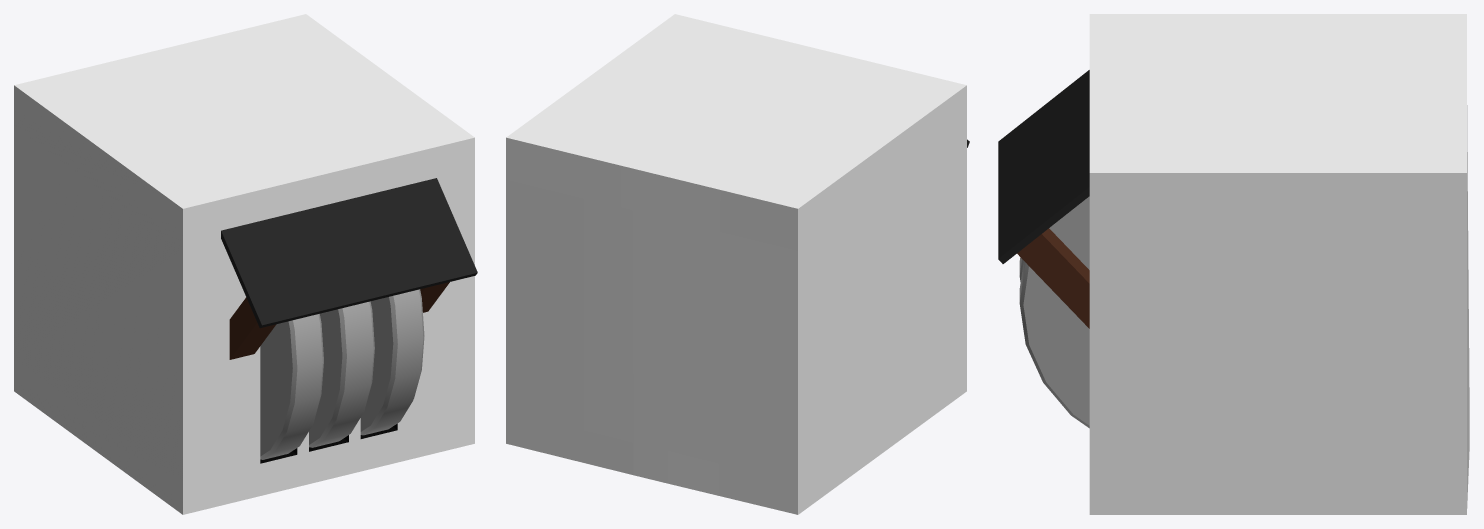
File: wall_02.fbx
3 views of the same model, side by side, from view 1: azimuth 30°, elevation 25°; view 2: azimuth 150°, elevation 25°; view 3: azimuth 270°, elevation 25° (orthographic). The views are drawn at different scales.
Parts seen in each view (by area): view 1: Wall_02; view 2: Wall_02; view 3: Wall_02.
Part boxes in pixels (bbox=[...]): Wall_02: bbox=[14, 14, 477, 514]; Wall_02: bbox=[506, 14, 969, 514]; Wall_02: bbox=[998, 14, 1469, 514].
Size of the model in its own units: 200 by 200 by 250.
